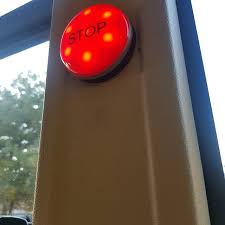bell: (57, 3, 141, 86)
